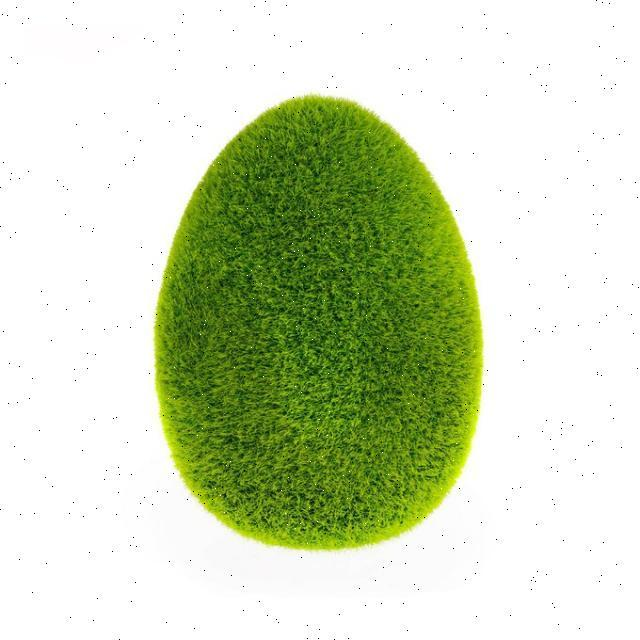Circle: (160, 93, 485, 561)
